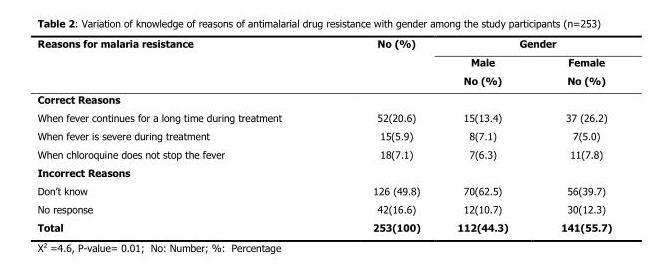table: (36, 36, 611, 232)
table column: (36, 36, 326, 232), (326, 36, 438, 232), (438, 36, 533, 232), (533, 36, 611, 232)
table column header: (36, 36, 611, 89)
table projected row header: (36, 162, 611, 181), (36, 89, 611, 107)
table row: (36, 52, 611, 89), (36, 107, 611, 126), (36, 162, 611, 181), (36, 89, 611, 107), (36, 126, 611, 144), (36, 144, 611, 162), (36, 181, 611, 199), (36, 199, 611, 217), (36, 36, 611, 52), (36, 217, 611, 232)
table spanning cell: (36, 36, 326, 89), (326, 36, 438, 89), (438, 36, 611, 52)
